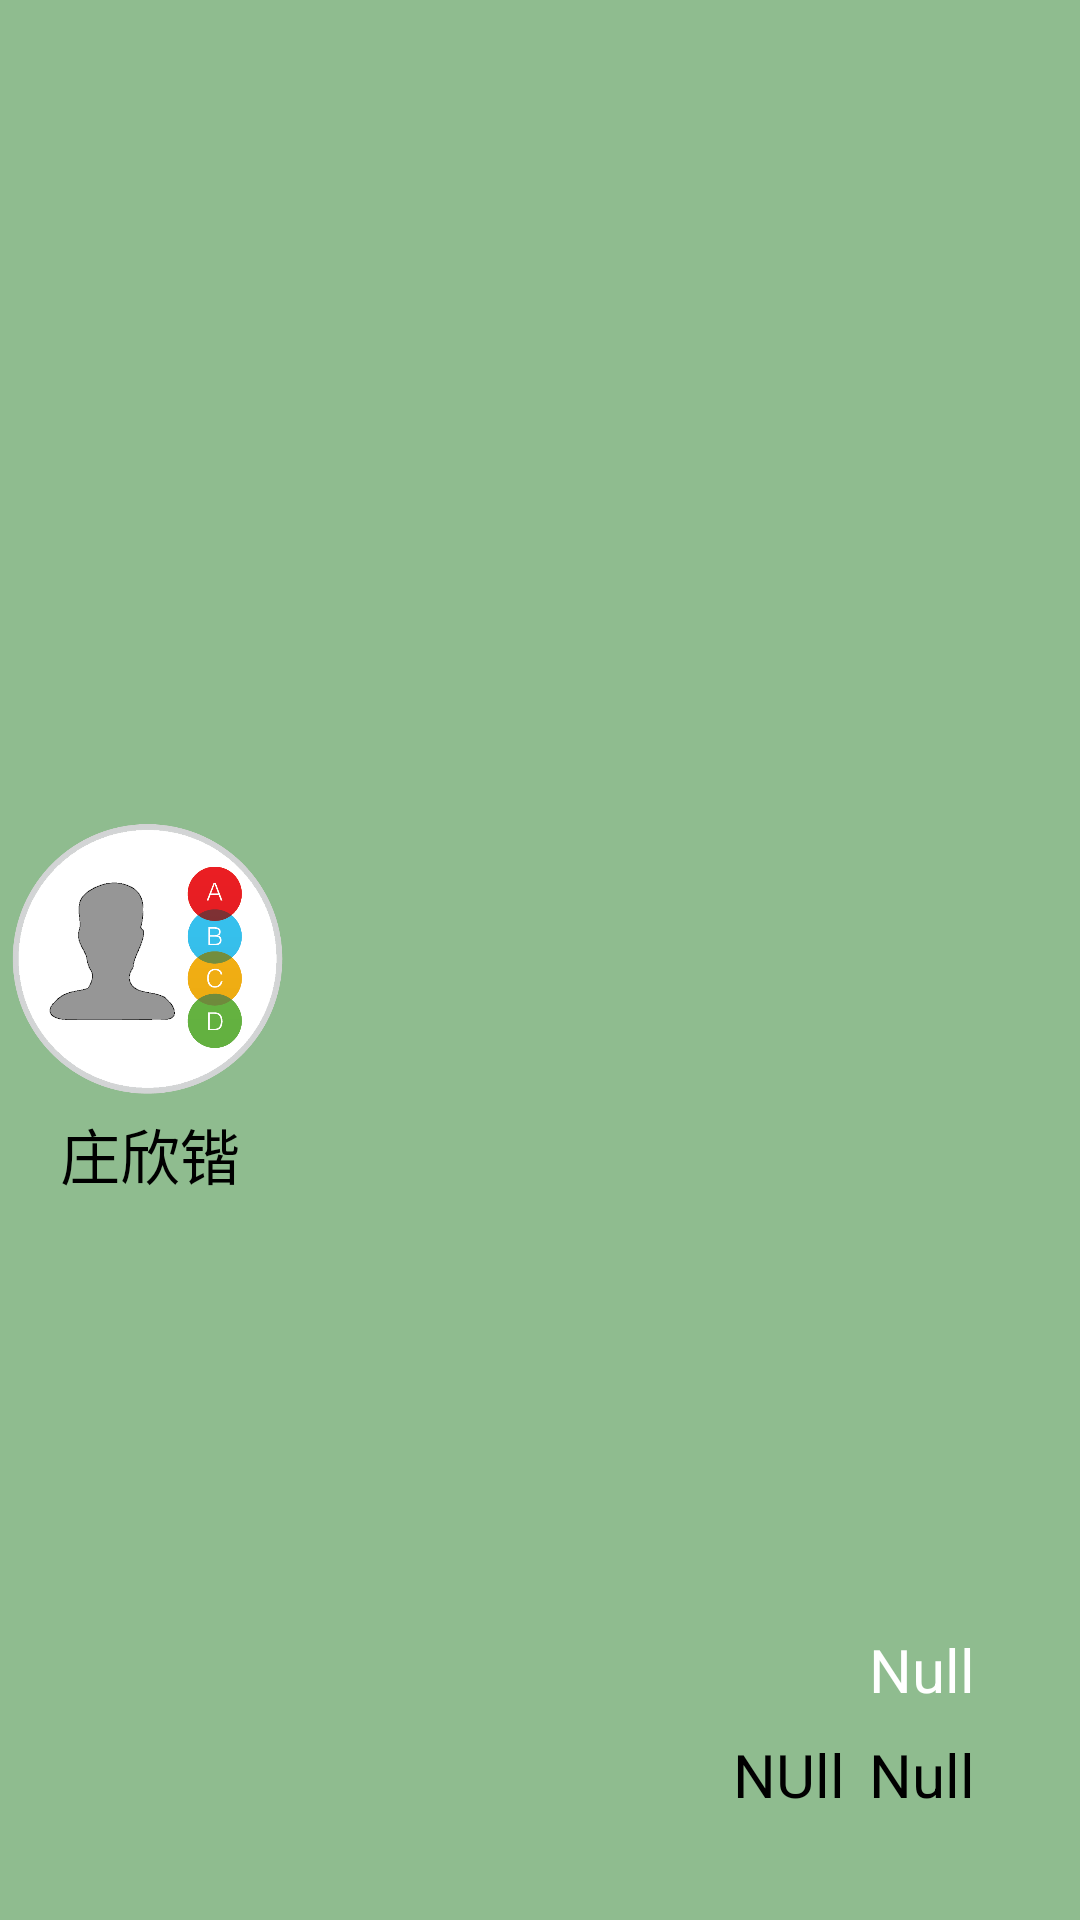

Icon click points for this 1080x1920 phone screenshot, format (x=x, y=y):
contacts: (x=147, y=959)
